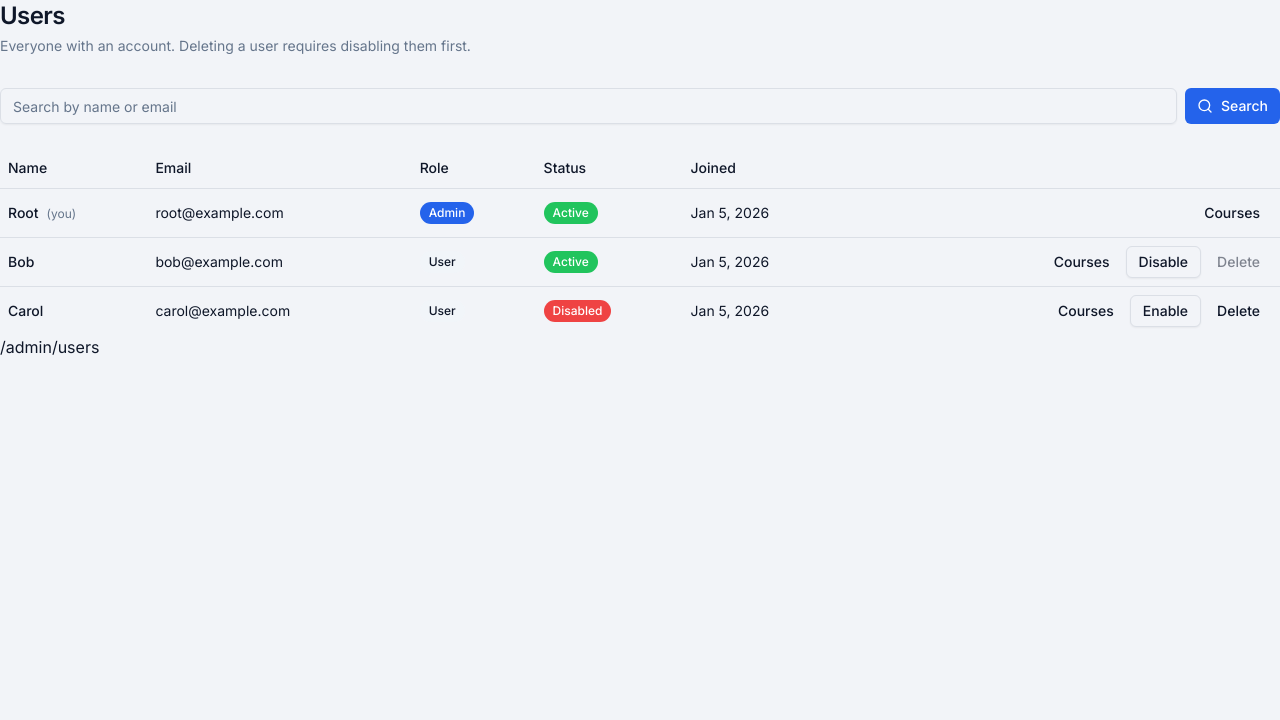
Test: audit log › does not refetch a user's courses on focus either
This screenshot has width=1280, height=720.
Step 1. Click the button "Courses" in the row of "bob@example.com" → (1082, 262), box [1042,246,1122,278]
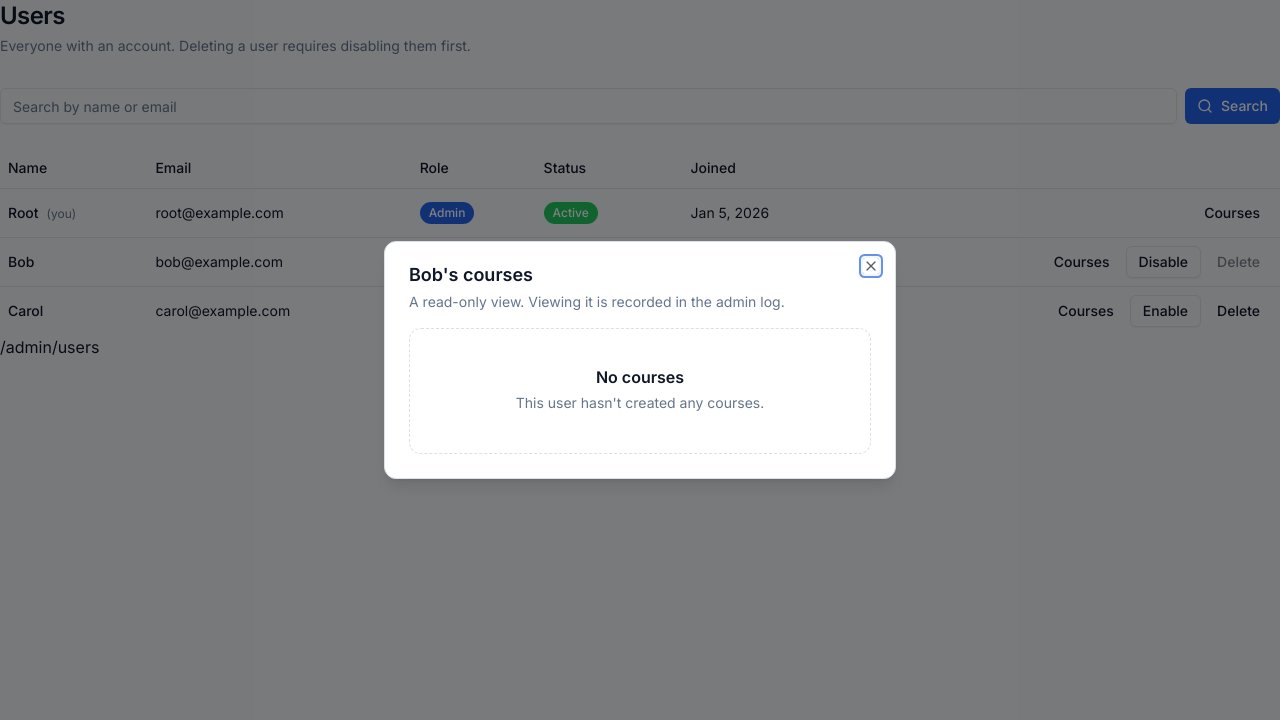
Result: the text "No courses" is shown at [596,367,684,387]
